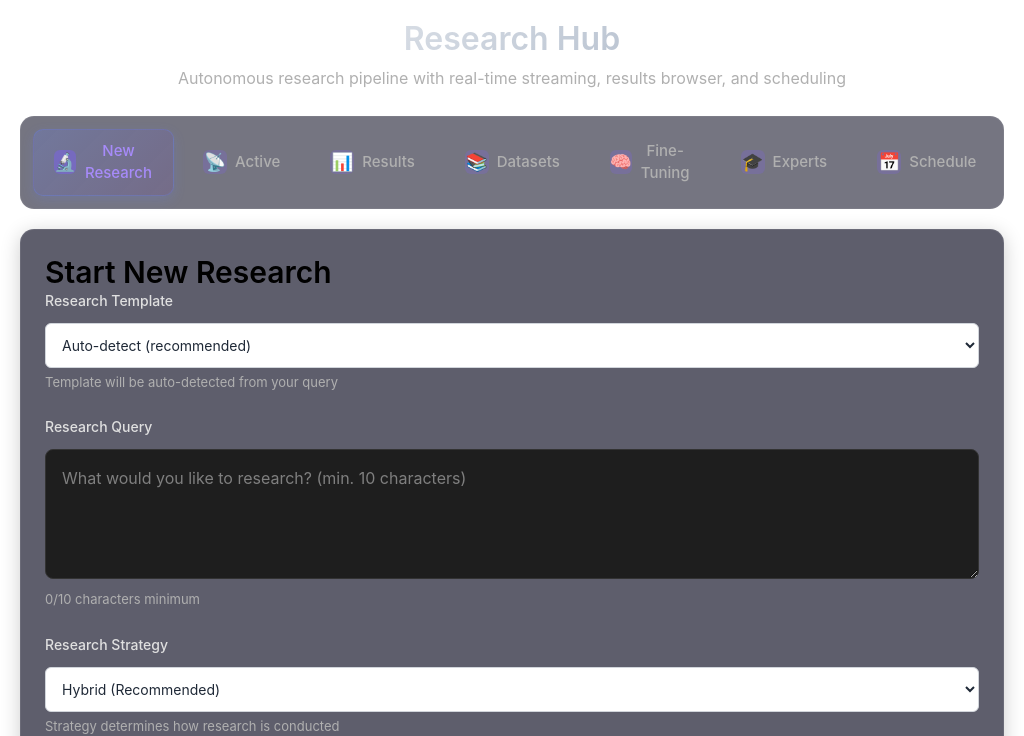
Test case: ResearchHub Tab Content › renders Schedule tab content when clicked
The image size is (1024, 736).
Step 1. Click the text "Schedule" → (943, 162), box top-left (909, 151), bottom-right (976, 174)
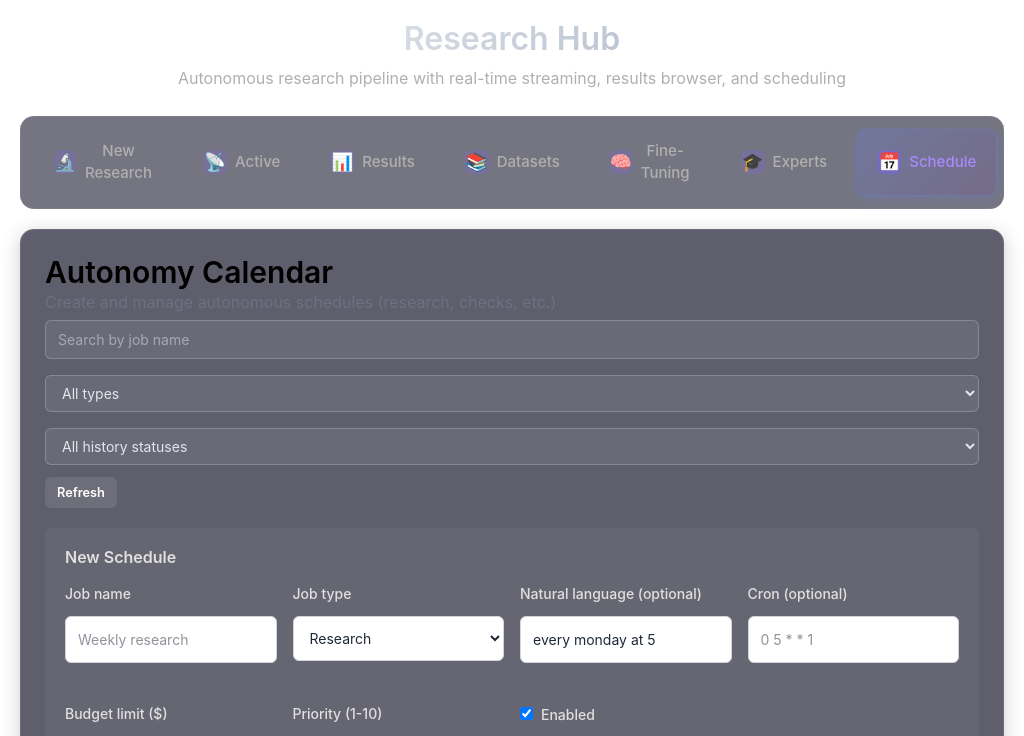
Now the heading "Autonomy Calendar" is shown, box top-left (45, 254), bottom-right (333, 290)
